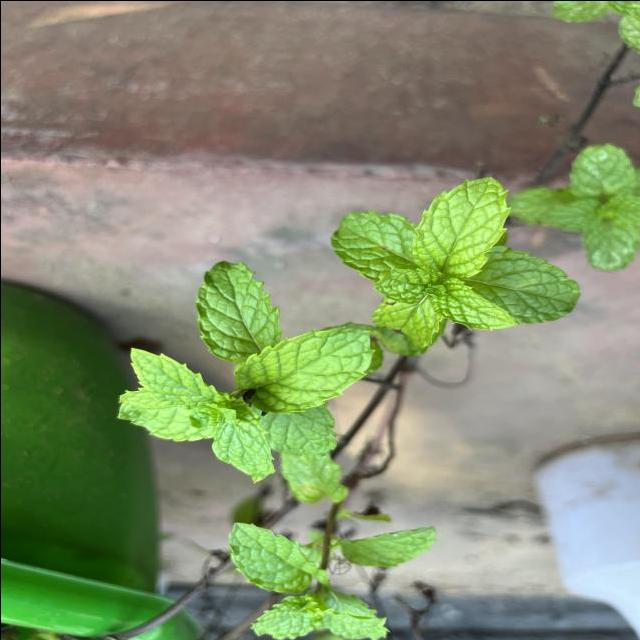Mentha spicata: (232, 324, 375, 416), (409, 174, 514, 280), (191, 258, 284, 360), (426, 273, 519, 331)
